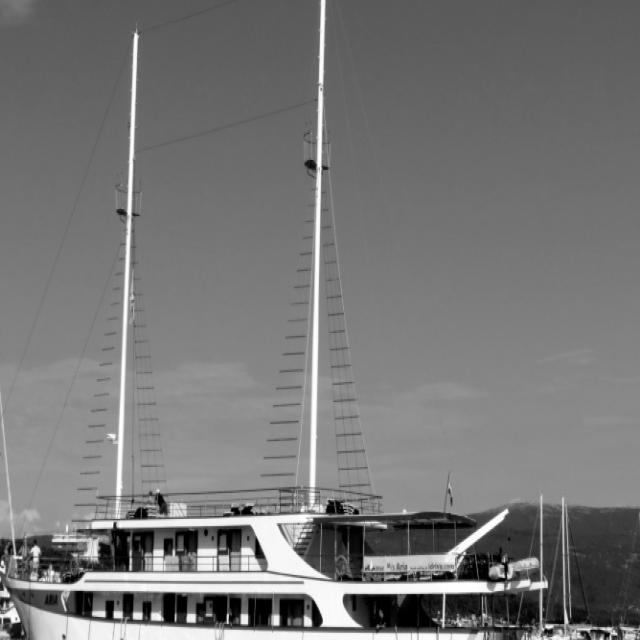cruises: (7, 482, 557, 640)
